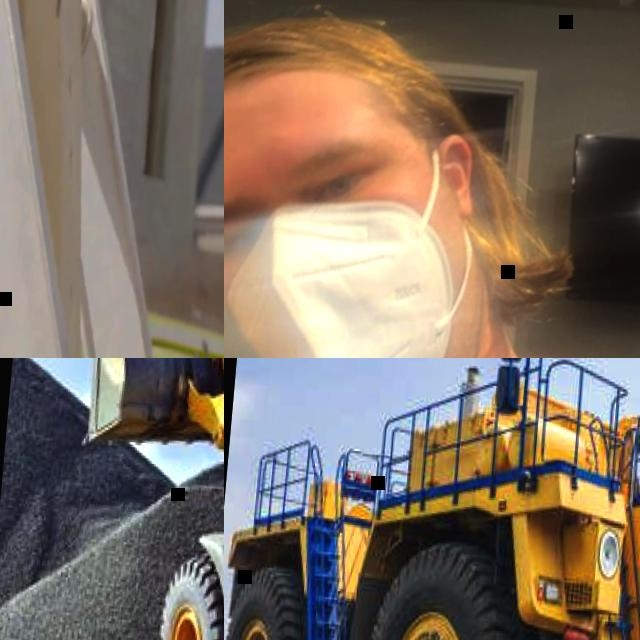Mask: (224, 183, 480, 358)
NO-Hardhat: (224, 0, 431, 159)
Person: (224, 0, 640, 358)
machinery: (224, 358, 640, 640), (43, 358, 224, 640)
